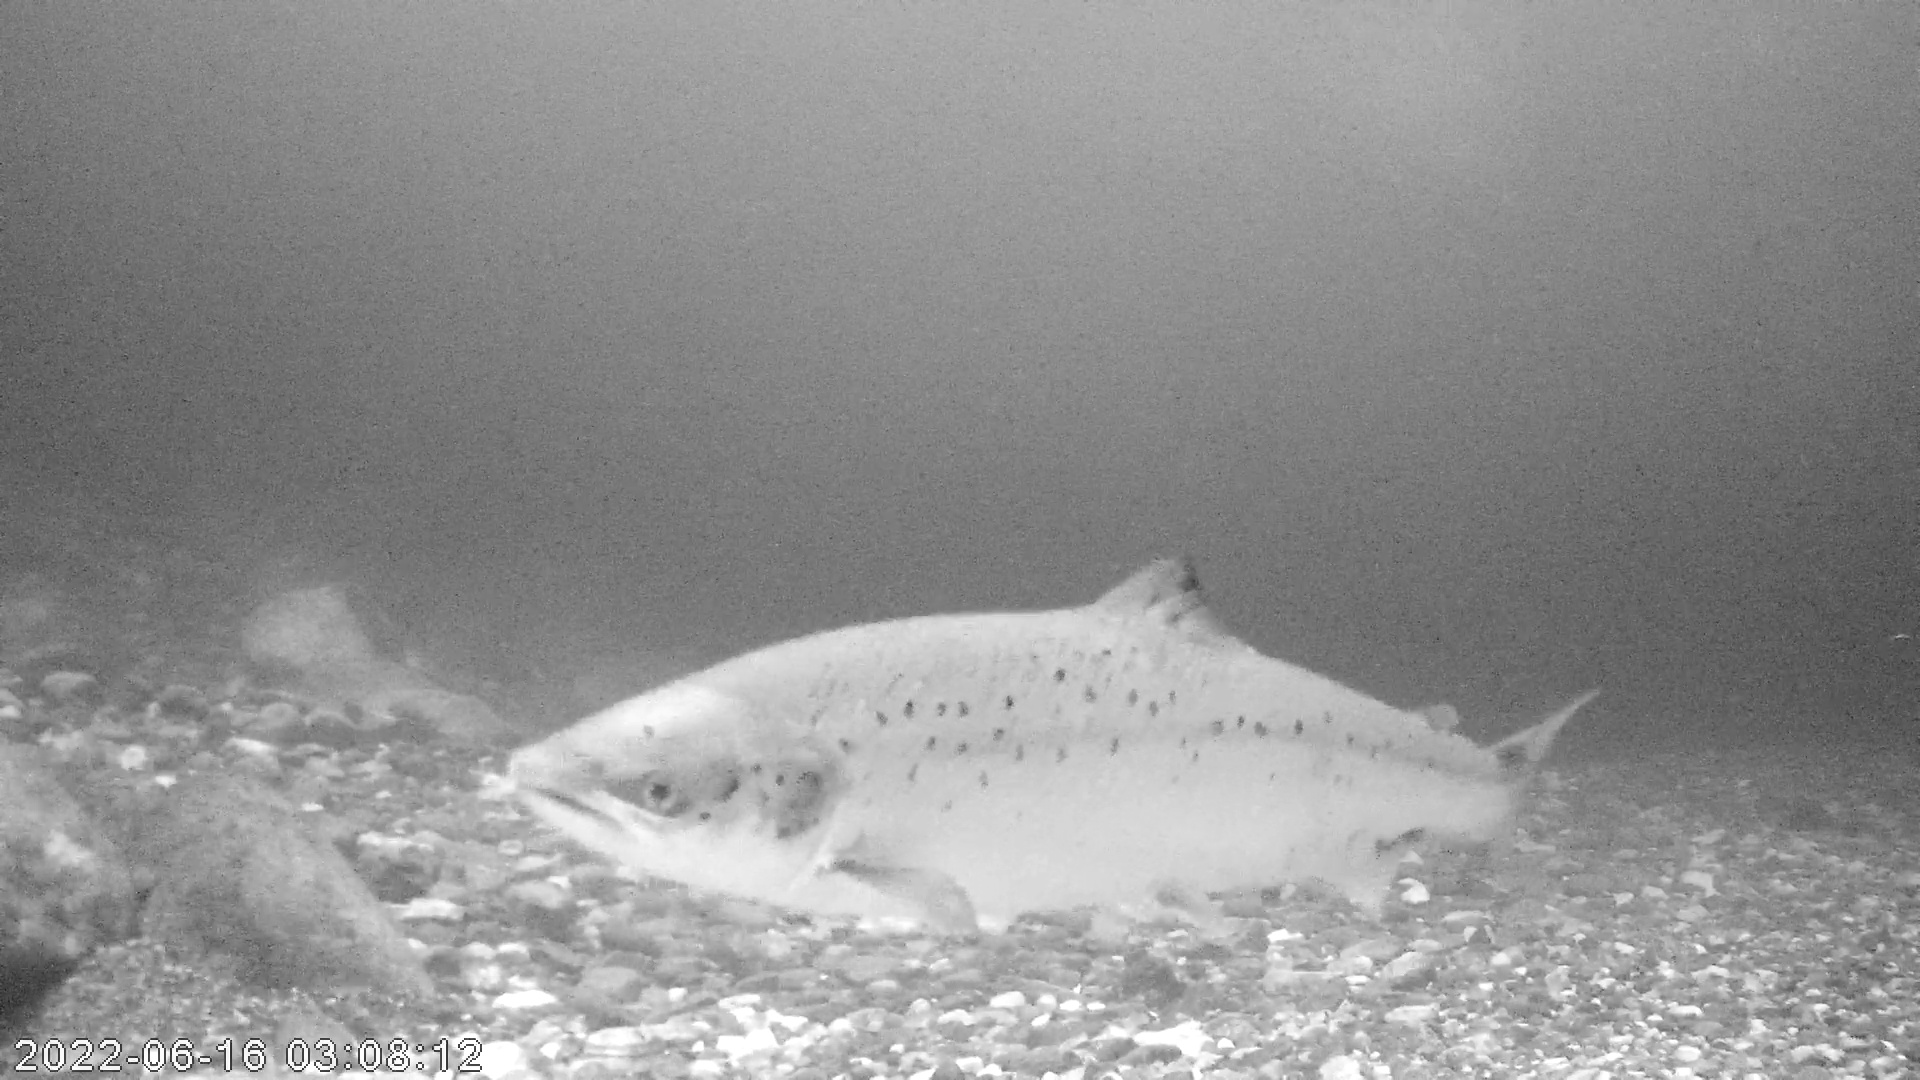salmon: (506, 556, 1607, 945)
